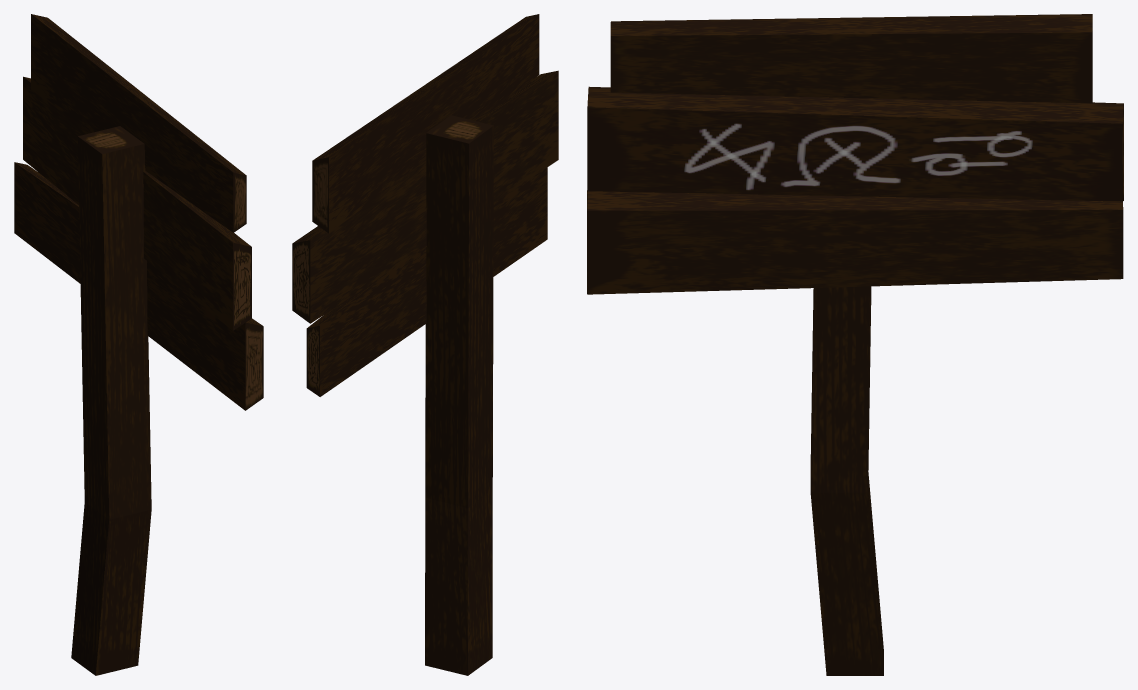
File: Signboard.fbx
3 renders of one model, left to right at view 1: azimuth 30°, elevation 25°; view 2: azimuth 150°, elevation 25°; view 3: azimuth 270°, elevation 25°, orthographic. The views are drawn at different scales.
Parts seen in each view (by area): view 1: Signpole, Signboard.001, Signboard.002, Signboard.003; view 2: Signpole, Signboard.002, Signboard.001, Signboard.003; view 3: Signboard.002, Signboard.003, Signboard.001, Signpole.
Part boxes in pixels (<box>): Signpole: <box>71,126,151,675</box>; Signboard.001: <box>31,14,246,232</box>; Signboard.002: <box>23,76,251,330</box>; Signboard.003: <box>14,162,263,410</box>; Signpole: <box>425,115,493,675</box>; Signboard.002: <box>292,70,558,323</box>; Signboard.001: <box>312,14,539,233</box>; Signboard.003: <box>306,167,547,396</box>; Signboard.002: <box>587,86,1123,201</box>; Signboard.003: <box>587,190,1123,294</box>; Signboard.001: <box>610,14,1092,103</box>; Signpole: <box>810,286,883,675</box>.
Size of the model in its own units: 31.8 by 238 by 174.
